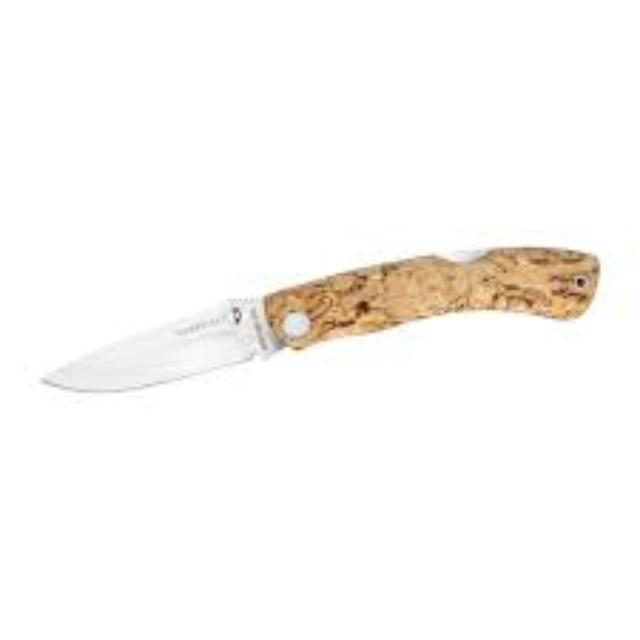knife: (38, 242, 600, 392)
